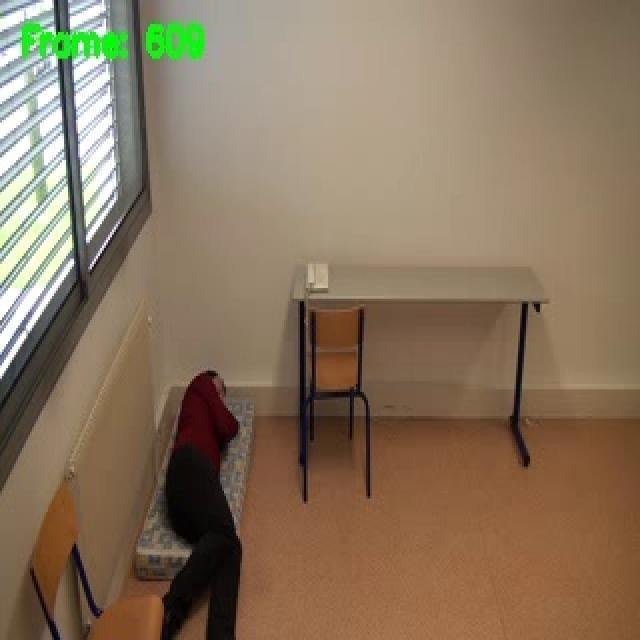fall: (158, 368, 244, 640)
